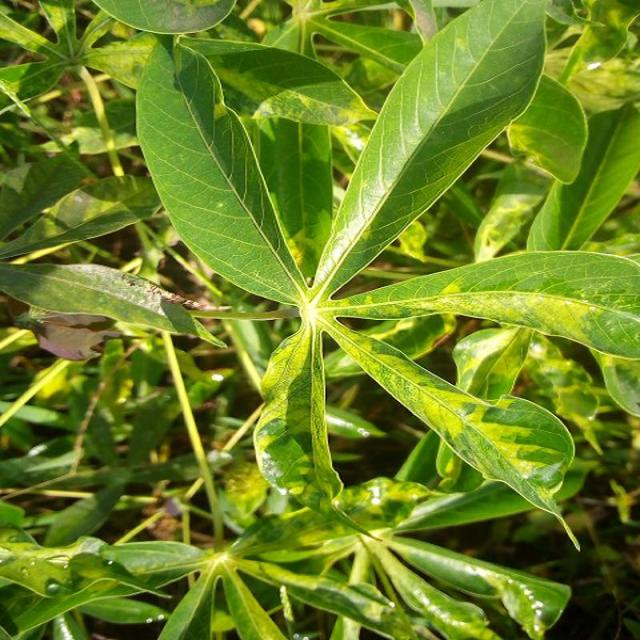cassava leaf: (129, 1, 636, 543), (310, 0, 548, 300)
